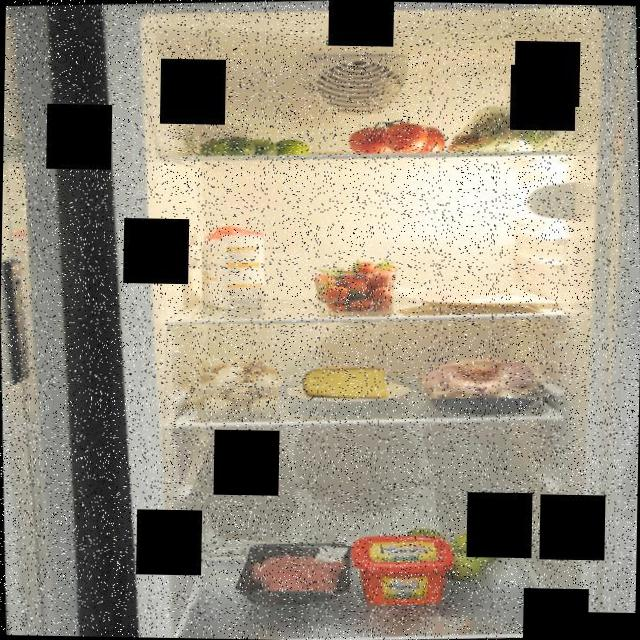Carne cerdo: (409, 280, 543, 312)
Carne pollo: (412, 352, 548, 418)
Carne vacuno: (242, 546, 348, 600)
Champiñones: (185, 351, 296, 419)
Mantequilla: (350, 530, 454, 610)
Manzana: (396, 522, 510, 586)
Queso: (298, 360, 391, 403)
Tomate: (346, 111, 448, 160)
green_beans: (440, 96, 564, 158)
strawberries: (306, 252, 404, 316)
sugar: (198, 219, 270, 309)
